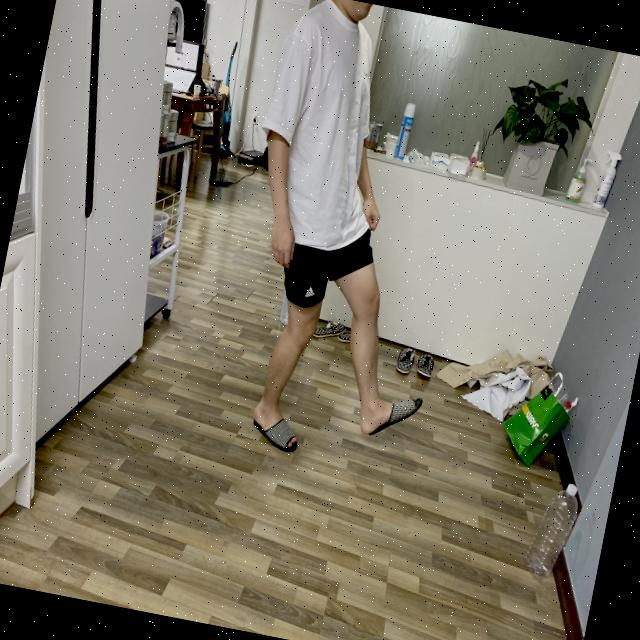no-boots: (238, 392, 317, 466), (349, 382, 432, 444)
